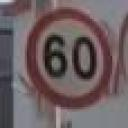speed_limit_60: (24, 6, 114, 110)
